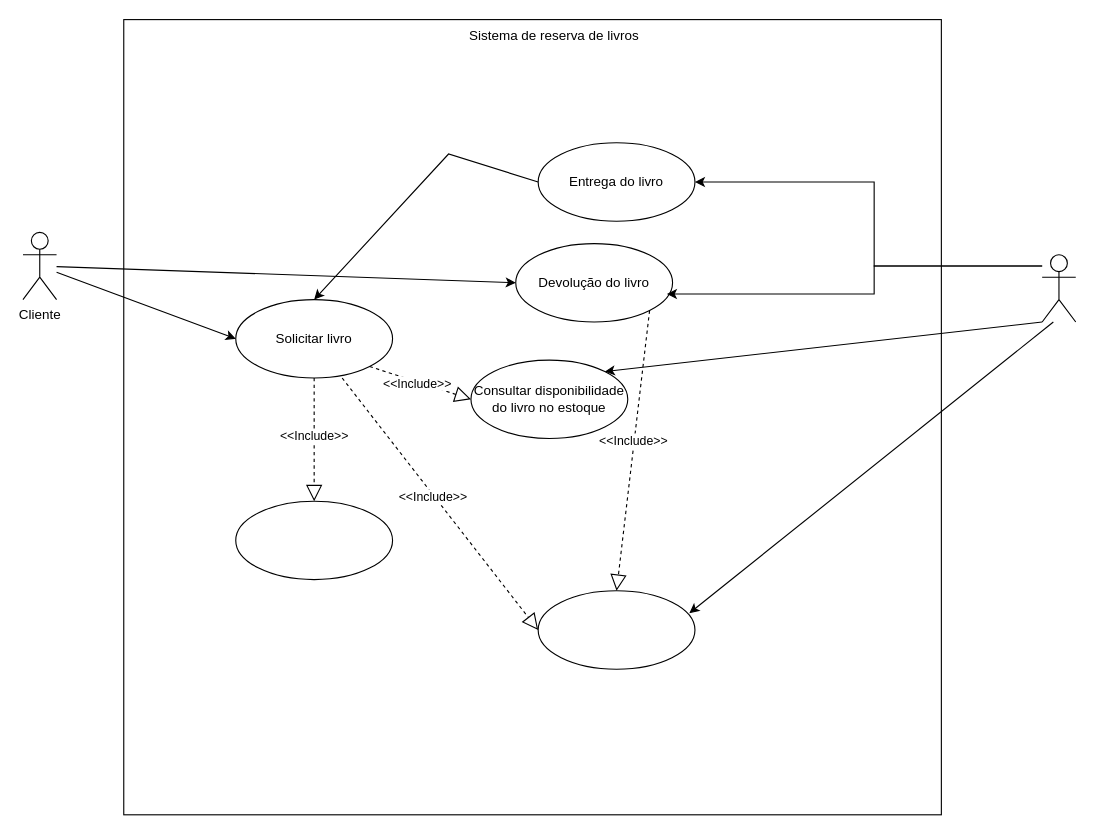
The diagram is 1113 pixels wide and 834 high, and some of its shapes have lost their labels. The shapes that lost their labels are listed below. From the top down, each one's box as (x1, y1, x2, y2) in pixels, then its label:
(1041, 254, 1076, 322): Funcionário
(235, 500, 393, 580): Cadastro do cliente no sistema
(537, 590, 695, 669): Vincular coleta/devolução ao usuário
